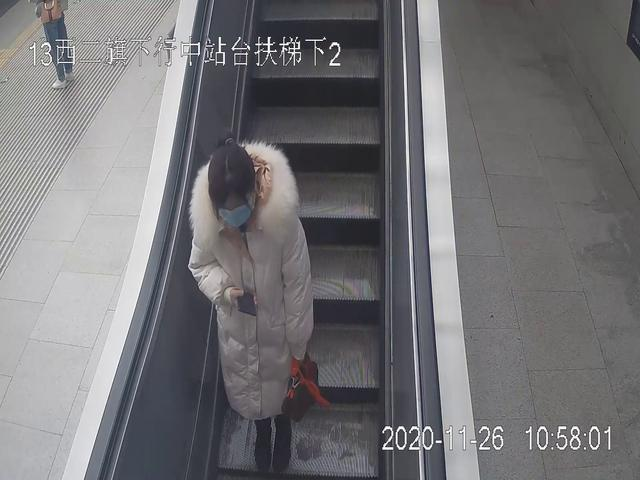person: (187, 134, 319, 472)
